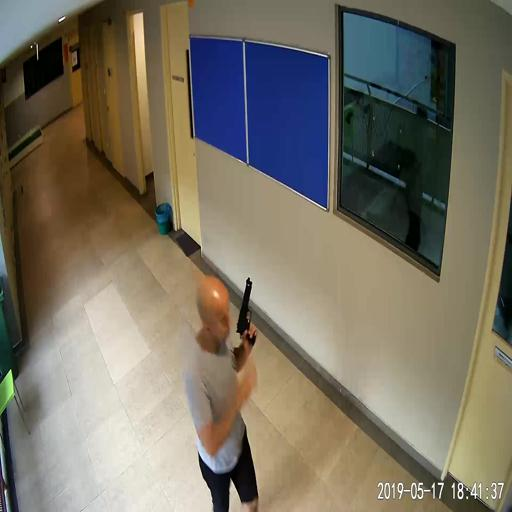pistol: (236, 277, 257, 344)
